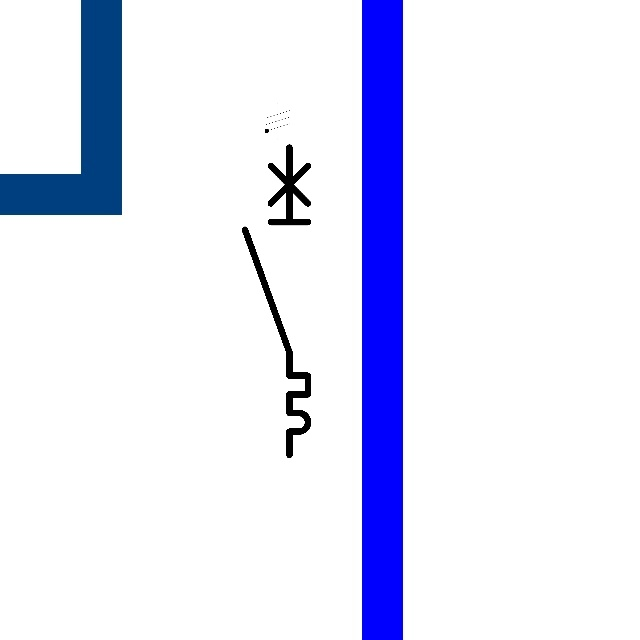interruptor_termomagnetico: (237, 139, 316, 462)
